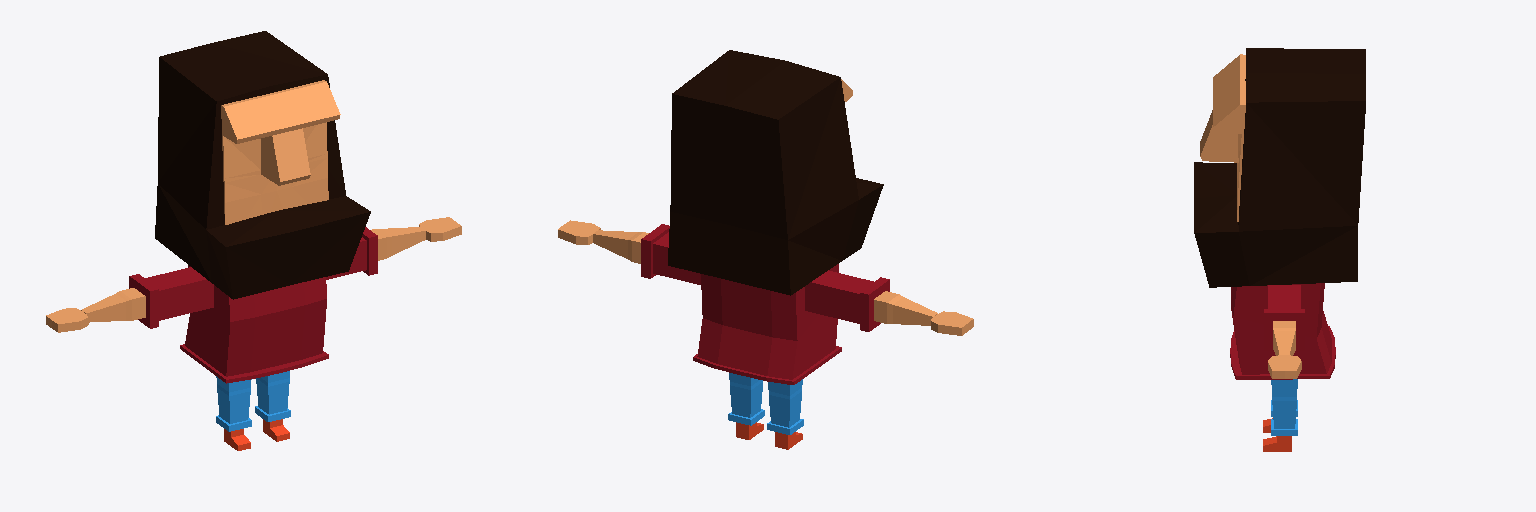
The model's file is Player.obj.
The picture shows the model from 3 angles: view 1: azimuth 30°, elevation 25°; view 2: azimuth 150°, elevation 25°; view 3: azimuth 270°, elevation 25°; orthographic projection.
Visible parts, largest first — view 1: Cube.004_Cube.005; view 2: Cube.004_Cube.005; view 3: Cube.004_Cube.005.
Part boxes in pixels (bbox=[...]): Cube.004_Cube.005: bbox=[46, 31, 461, 450]; Cube.004_Cube.005: bbox=[558, 50, 973, 449]; Cube.004_Cube.005: bbox=[1194, 48, 1365, 451].
Size of the model in its own units: 7.84 by 6.78 by 2.9.